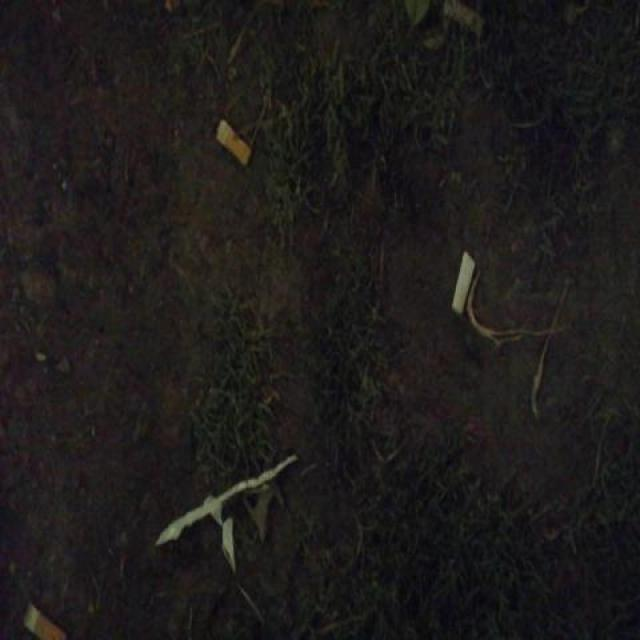non-organic waste: (212, 113, 255, 175), (448, 246, 479, 318)
